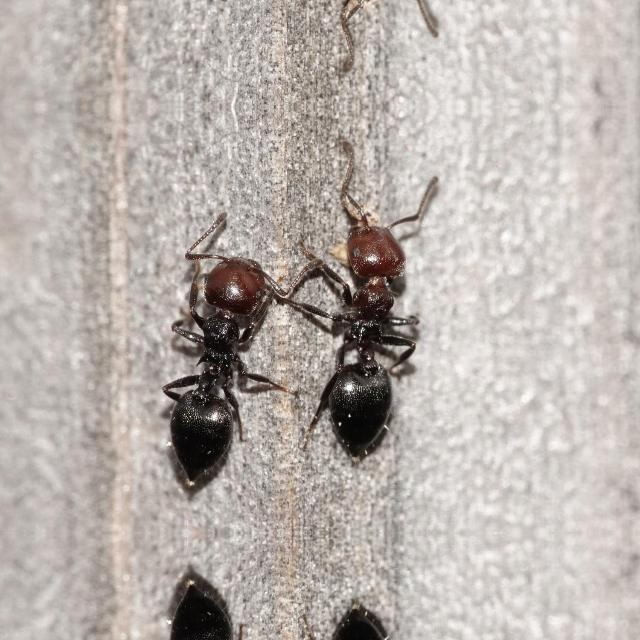Crematogaster: (308, 198, 430, 474), (156, 240, 286, 494), (156, 571, 286, 640)
